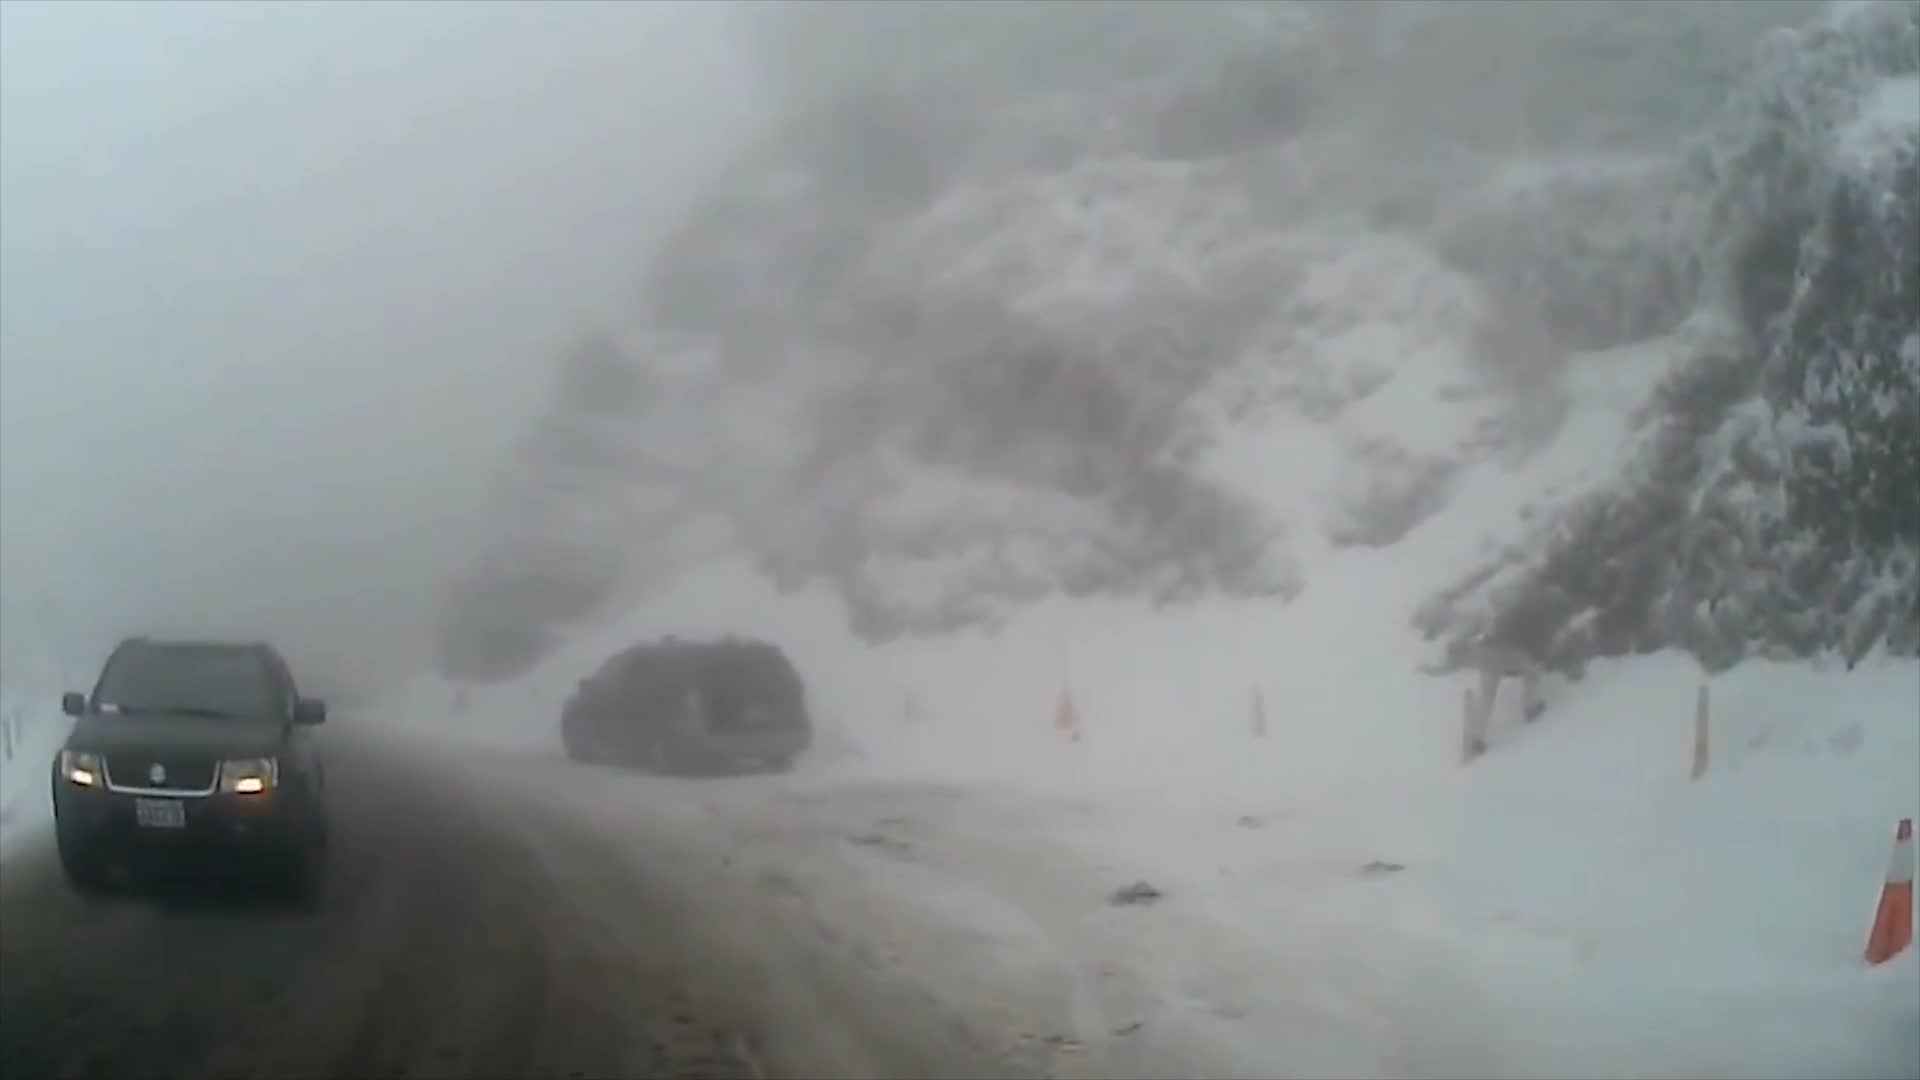vehicle: (47, 634, 335, 905), (560, 637, 810, 778)
